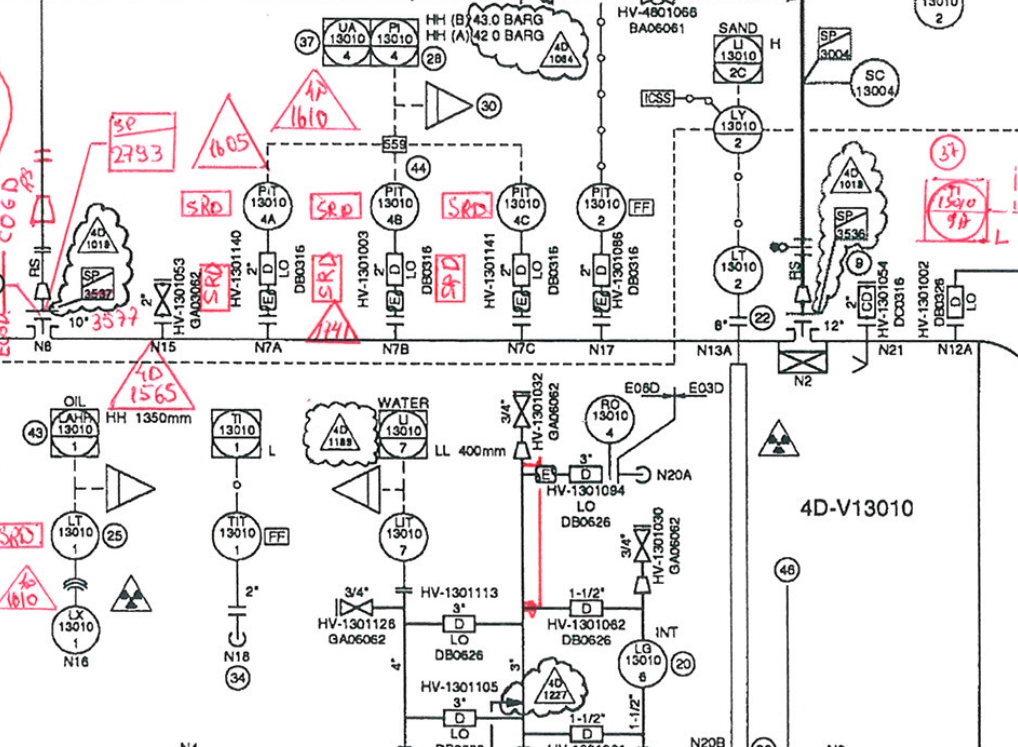Instrument: (372, 509, 434, 568), (578, 388, 636, 447), (573, 176, 630, 236), (616, 635, 673, 693), (708, 101, 765, 158), (709, 240, 765, 298), (493, 177, 552, 232), (240, 176, 293, 235), (210, 509, 265, 565), (49, 602, 104, 658), (848, 58, 905, 112), (48, 506, 102, 563), (368, 179, 422, 234)
Instrument-square: (207, 403, 265, 464), (46, 403, 104, 463), (373, 405, 431, 462), (711, 33, 767, 87), (318, 12, 372, 67), (370, 15, 422, 72)
